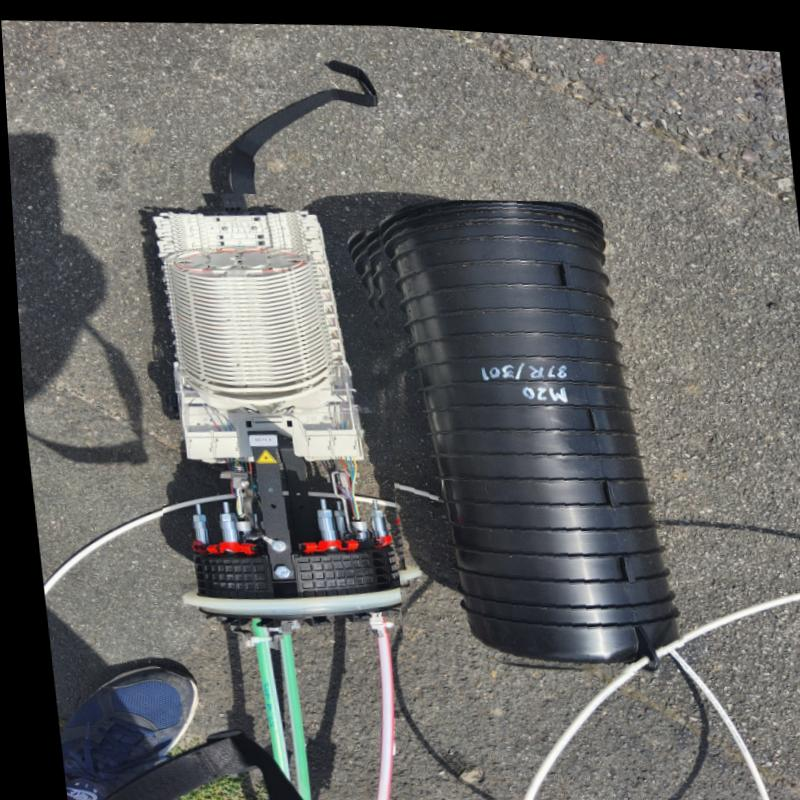NT-Muffen: (371, 194, 678, 659), (128, 191, 411, 645)
